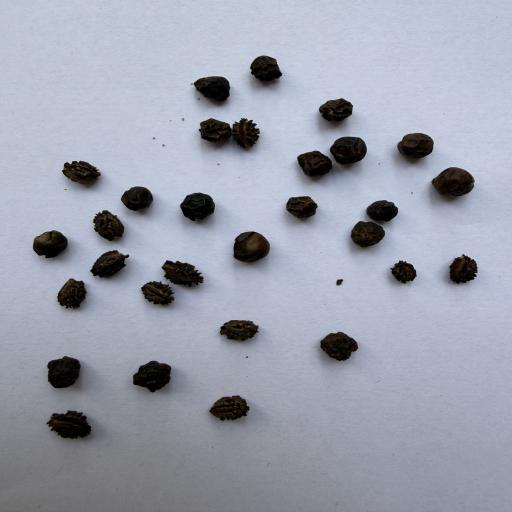Black_pepper: (316, 330, 366, 365), (230, 229, 273, 264), (290, 146, 334, 180), (393, 127, 436, 159), (433, 165, 476, 197), (130, 362, 175, 392), (28, 228, 72, 258), (329, 134, 372, 163), (44, 356, 82, 388), (194, 75, 236, 103), (179, 192, 217, 221), (314, 96, 355, 122), (348, 220, 388, 246), (192, 116, 231, 142), (249, 54, 285, 82), (118, 188, 158, 210), (285, 195, 322, 218), (366, 198, 400, 222)
papaya_seed: (40, 404, 96, 444), (440, 250, 489, 291), (202, 394, 255, 427), (162, 252, 213, 286), (218, 309, 263, 346), (53, 158, 111, 186), (86, 249, 136, 281), (233, 114, 271, 152), (51, 274, 88, 312), (381, 256, 421, 287), (134, 280, 178, 308), (92, 210, 130, 242)
